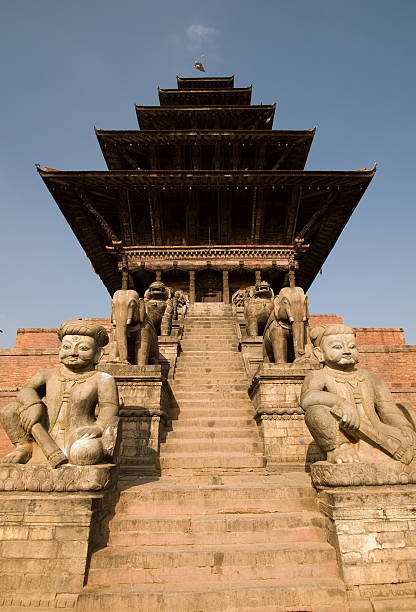nyathapola: (29, 13, 399, 570)
